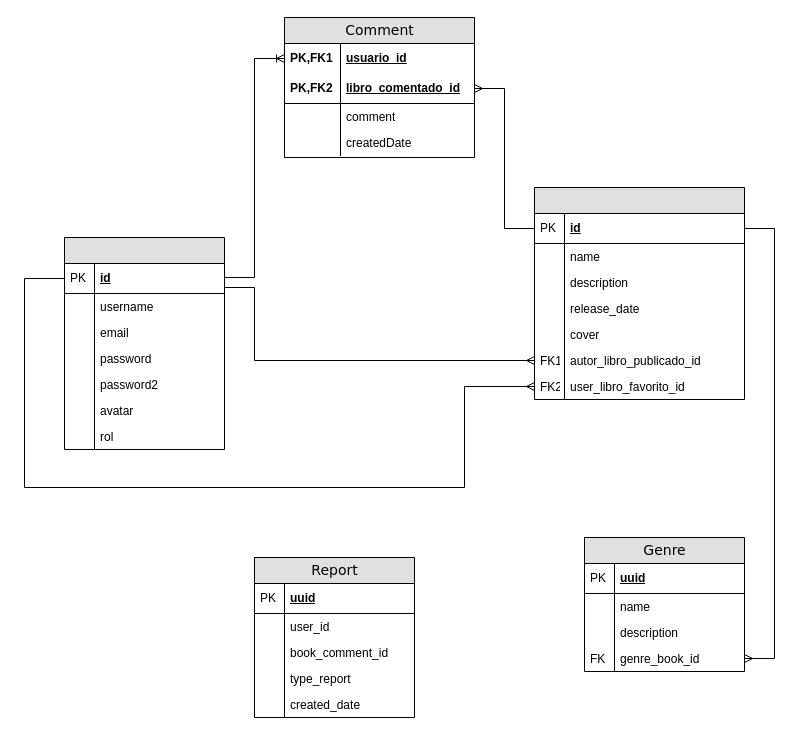
Image size: 800x738. Some labels were removed from this diagram. The box of each missing label's shape, as (x1, y1, x2, y2) in pixels:
Book: (534, 186, 744, 400)
users: (64, 236, 224, 450)
